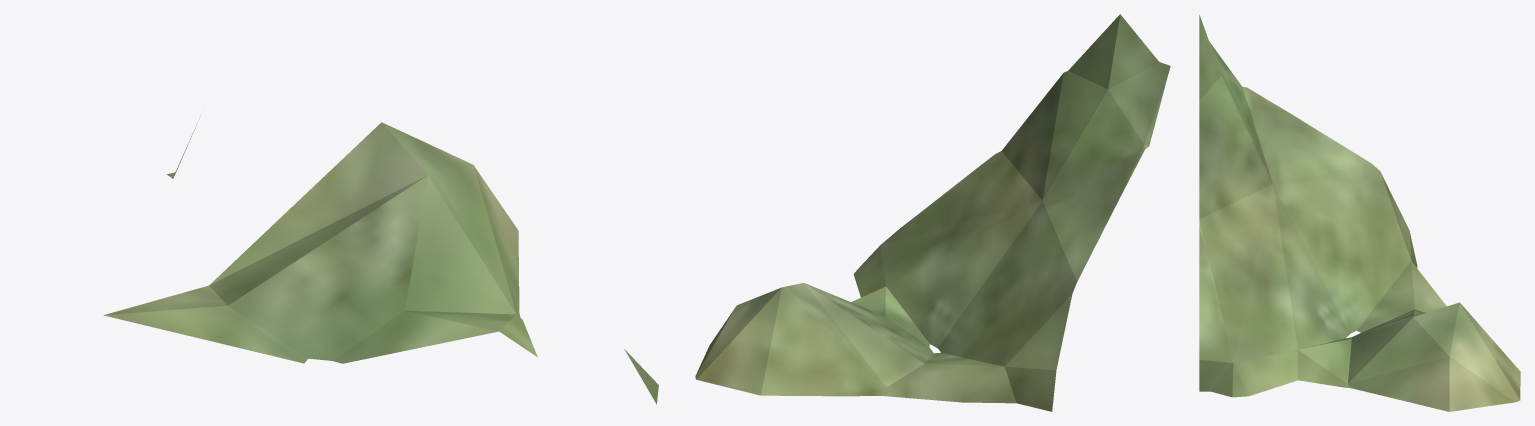
3 views of the same model, side by side, from view 1: azimuth 30°, elevation 25°; view 2: azimuth 150°, elevation 25°; view 3: azimuth 270°, elevation 25° (orthographic). The views are drawn at different scales.
Bounding box in the file's own units: 0.501 × 0.4398 × 0.4661.
Materials: 1 (1 with a texture image).
